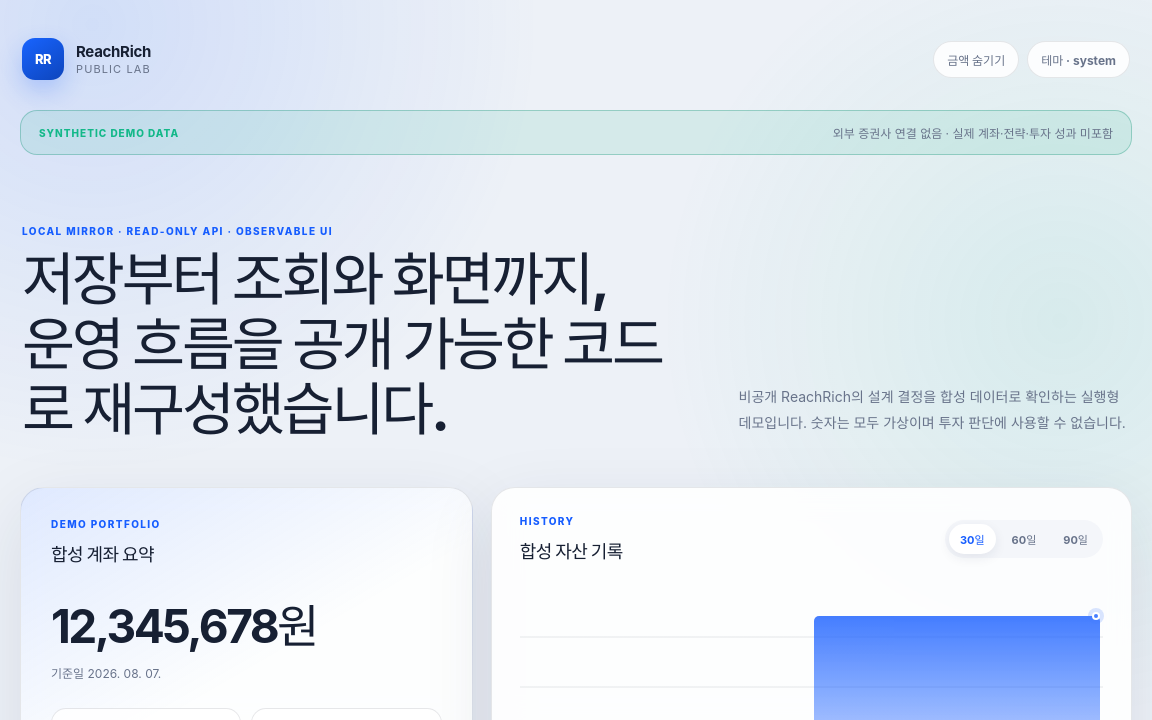
ReachRich public dashboard › masks amounts and persists the privacy preference
The image size is (1152, 720).
Expected: the heading "합성 계좌 요약" is shown, [51,544,154,565]
Click the button "금액 숨기기": {"x": 976, "y": 59} [933,40,1019,78]
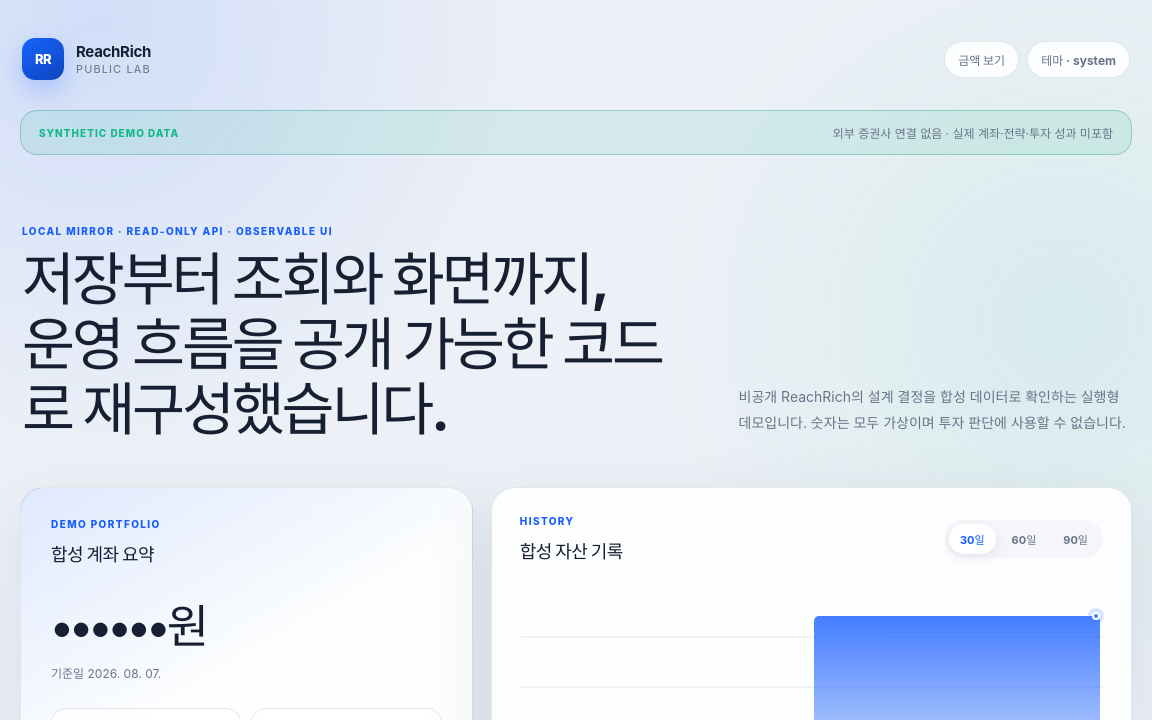
Expected: the text "••••••원" is shown, [51,598,206,654]
Expected: the button "금액 보기" is shown, [944,40,1019,78]
